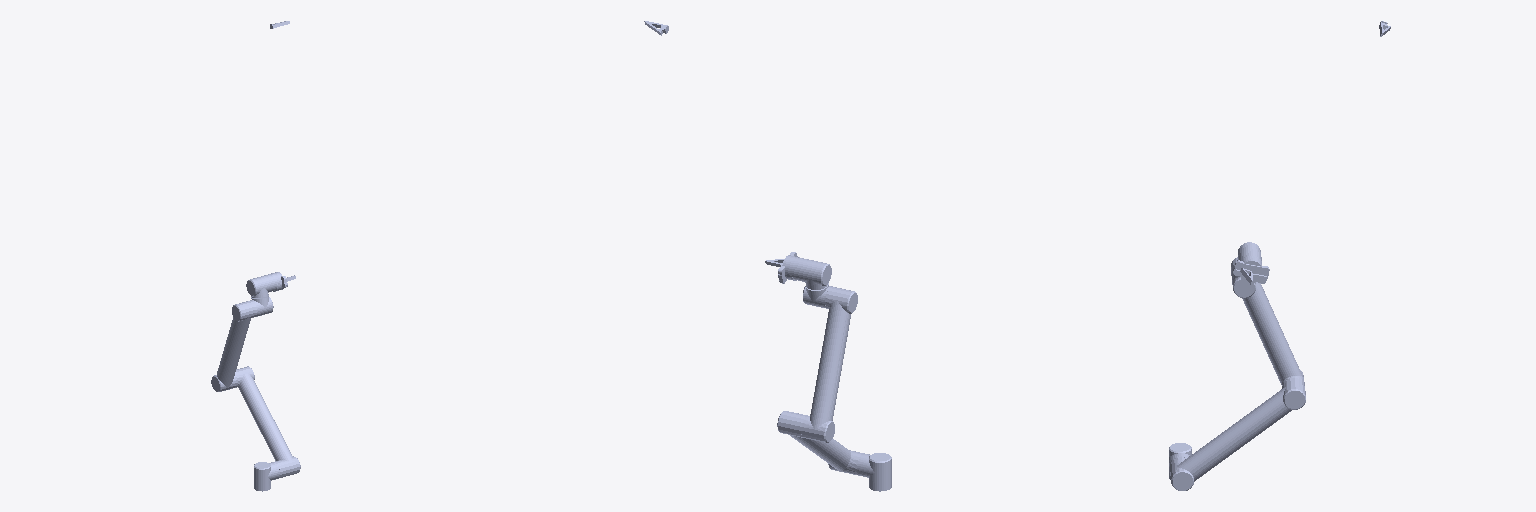
robot.urdf — mim_arm:
<?xml version="1.0" encoding="utf-8"?>
<!-- This URDF was automatically created by SolidWorks to URDF Exporter! Originally created by Stephen Brawner ([email redacted]) 
     Commit Version: 1.6.0-1-g15f4949  Build Version: 1.6.7594.29634
     For more information, please see http://wiki.ros.org/sw_urdf_exporter -->
<robot
  name="mim_arm">
  <link
    name="mim_arm_base_link">
    <inertial>
      <origin
        xyz="4.0324476207476E-19 0.0201017280573514 1.22282880618414E-18"
        rpy="0 0 0" />
      <mass
        value="0.689240659662406" />
      <inertia
        ixx="0.00102434108086272"
        ixy="-4.53910013248264E-22"
        ixz="6.32595764050144E-21"
        iyy="0.00186019972980973"
        iyz="9.14439629641527E-21"
        izz="0.00102434108086272" />
    </inertial>
    <visual>
      <origin
        xyz="0 0 0"
        rpy="0 0 0" />
      <geometry>
        <mesh
          filename="package://mim_arm/meshes/base_link.STL" />
      </geometry>
      <material
        name="">
        <color
          rgba="0.792156862745098 0.819607843137255 0.933333333333333 1" />
      </material>
    </visual>
    <collision>
      <origin
        xyz="0 0 0"
        rpy="0 0 0" />
      <geometry>
        <mesh
          filename="package://mim_arm/meshes/base_link.STL" />
      </geometry>
    </collision>
  </link>
  <link
    name="L1">
    <inertial>
      <origin
        xyz="0.0157111756213877 0.0745368977953079 3.22839210484933E-07"
        rpy="0 0 0" />
      <mass
        value="1.46692841296099" />
      <inertia
        ixx="0.00308011645508256"
        ixy="-0.000280319295179128"
        ixz="-2.73424139909787E-08"
        iyy="0.00284729651643544"
        iyz="-4.13248794120909E-08"
        izz="0.00401457189114322" />
    </inertial>
    <visual>
      <origin
        xyz="0 0 0"
        rpy="0 0 0" />
      <geometry>
        <mesh
          filename="package://mim_arm/meshes/L1.STL" />
      </geometry>
      <material
        name="">
        <color
          rgba="0.792156862745098 0.819607843137255 0.933333333333333 1" />
      </material>
    </visual>
    <collision>
      <origin
        xyz="0 0 0"
        rpy="0 0 0" />
      <geometry>
        <mesh
          filename="package://mim_arm/meshes/L1.STL" />
      </geometry>
    </collision>
  </link>
  <joint
    name="J01"
    type="revolute">
    <origin
      xyz="0 0 0.0413"
      rpy="1.5708 0 0.04868" />
    <parent
      link="mim_arm_base_link" />
    <child
      link="L1" />
    <axis
      xyz="0 1 0" />
    <limit
      lower="-2" upper="2"
      effort="1000"
      velocity="30" />
  </joint>
  <link
    name="L2">
    <inertial>
      <origin
        xyz="0.0839314258067013 0.296691749652629 2.79190101315496E-08"
        rpy="0 0 0" />
      <mass
        value="6.19019805184656" />
      <inertia
        ixx="0.29286382896202"
        ixy="-0.00418366073231934"
        ixz="-3.05995251841367E-07"
        iyy="0.00973882828969972"
        iyz="-1.61849364184279E-08"
        izz="0.294707227874404" />
    </inertial>
    <visual>
      <origin
        xyz="0 0 0"
        rpy="0 0 0" />
      <geometry>
        <mesh
          filename="package://mim_arm/meshes/L2.STL" />
      </geometry>
      <material
        name="">
        <color
          rgba="0.792156862745098 0.819607843137255 0.933333333333333 1" />
      </material>
    </visual>
    <collision>
      <origin
        xyz="0 0 0"
        rpy="0 0 0" />
      <geometry>
        <mesh
          filename="package://mim_arm/meshes/L2.STL" />
      </geometry>
    </collision>
  </link>
  <joint
    name="J12"
    type="revolute">
    <origin
      xyz="0.088339 0.0867 0"
      rpy="-0.90844 0 0" />
    <parent
      link="L1" />
    <child
      link="L2" />
    <axis
      xyz="1 0 0" />
    <limit
      lower="-2" upper="2"
      effort="1000"
      velocity="30" />
  </joint>
  <link
    name="L3">
    <inertial>
      <origin
        xyz="-0.0390411312560744 0.284045295063329 -6.99885338573125E-09"
        rpy="0 0 0" />
      <mass
        value="5.63295829772604" />
      <inertia
        ixx="0.228517974777978"
        ixy="0.000925537461414251"
        ixz="-1.66379515722896E-07"
        iyy="0.00797613784003759"
        iyz="-3.62618215112194E-08"
        izz="0.229295350964244" />
    </inertial>
    <visual>
      <origin
        xyz="0 0 0"
        rpy="0 0 0" />
      <geometry>
        <mesh
          filename="package://mim_arm/meshes/L3.STL" />
      </geometry>
      <material
        name="">
        <color
          rgba="0.792156862745098 0.819607843137255 0.933333333333333 1" />
      </material>
    </visual>
    <collision>
      <origin
        xyz="0 0 0"
        rpy="0 0 0" />
      <geometry>
        <mesh
          filename="package://mim_arm/meshes/L3.STL" />
      </geometry>
    </collision>
  </link>
  <joint
    name="J23"
    type="revolute">
    <origin
      xyz="0 0.6121 0"
      rpy="1.2956 0 0" />
    <parent
      link="L2" />
    <child
      link="L3" />
    <axis
      xyz="1 0 0" />
    <limit
      lower="-2" upper="2"
      effort="1000"
      velocity="30" />
  </joint>
  <link
    name="L4">
    <inertial>
      <origin
        xyz="0.0561524171672954 0.00575851444824127 2.22267610150428E-08"
        rpy="0 0 0" />
      <mass
        value="1.00354593818387" />
      <inertia
        ixx="0.00146767412037819"
        ixy="-9.69729917939629E-06"
        ixz="-7.70871234480699E-11"
        iyy="0.00165814310655602"
        iyz="-2.60399148641413E-10"
        izz="0.00179216037210157" />
    </inertial>
    <visual>
      <origin
        xyz="0 0 0"
        rpy="0 0 0" />
      <geometry>
        <mesh
          filename="package://mim_arm/meshes/L4.STL" />
      </geometry>
      <material
        name="">
        <color
          rgba="0.792156862745098 0.819607843137255 0.933333333333333 1" />
      </material>
    </visual>
    <collision>
      <origin
        xyz="0 0 0"
        rpy="0 0 0" />
      <geometry>
        <mesh
          filename="package://mim_arm/meshes/L4.STL" />
      </geometry>
    </collision>
  </link>
  <joint
    name="J34"
    type="revolute">
    <origin
      xyz="0.017974 0.5722 0"
      rpy="-0.59994 0 0" />
    <parent
      link="L3" />
    <child
      link="L4" />
    <axis
      xyz="1 0 0" />
    <limit
      lower="-2" upper="2"
      effort="1000"
      velocity="30" />
  </joint>
  <link
    name="L5">
    <inertial>
      <origin
        xyz="0.0427941745372498 0.0490036715631024 -2.33980786690235E-08"
        rpy="0 0 0" />
      <mass
        value="1.70333973838367" />
      <inertia
        ixx="0.00250547799197183"
        ixy="-9.58300421347055E-05"
        ixz="-1.75039188279538E-09"
        iyy="0.00348668671540668"
        iyz="-2.78336173577817E-05"
        izz="0.00347783620626748" />
    </inertial>
    <visual>
      <origin
        xyz="0 0 0"
        rpy="0 0 0" />
      <geometry>
        <mesh
          filename="package://mim_arm/meshes/L5.STL" />
      </geometry>
      <material
        name="">
        <color
          rgba="0.792156862745098 0.819607843137255 0.933333333333333 1" />
      </material>
    </visual>
    <collision>
      <origin
        xyz="0 0 0"
        rpy="0 0 0" />
      <geometry>
        <mesh
          filename="package://mim_arm/meshes/L5.STL" />
      </geometry>
    </collision>
  </link>
  <joint
    name="J45"
    type="revolute">
    <origin
      xyz="0.057831 0.063304 0"
      rpy="0 -0.00010935 0" />
    <parent
      link="L4" />
    <child
      link="L5" />
    <axis
      xyz="0 1 0" />
    <limit
      lower="-2" upper="2"
      effort="1000"
      velocity="30" />
  </joint>
  <link
    name="GR">
    <inertial>
      <origin
        xyz="0.0273459250494344 2.13762341161328E-12 -3.96627175547337E-13"
        rpy="0 0 0" />
      <mass
        value="0.437864913697669" />
      <inertia
        ixx="0.000703498286069566"
        ixy="-1.44675573672298E-14"
        ixz="7.42004588739735E-15"
        iyy="0.000536785327777073"
        iyz="5.89080786103993E-14"
        izz="0.000377025648223833" />
    </inertial>
    <visual>
      <origin
        xyz="0 0 0"
        rpy="0 0 0" />
      <geometry>
        <mesh
          filename="package://mim_arm/meshes/GR.STL" />
      </geometry>
      <material
        name="">
        <color
          rgba="0.792156862745098 0.819607843137255 0.933333333333333 1" />
      </material>
    </visual>
    <collision>
      <origin
        xyz="0 0 0"
        rpy="0 0 0" />
      <geometry>
        <mesh
          filename="package://mim_arm/meshes/GR.STL" />
      </geometry>
    </collision>
  </link>
  <joint
    name="J5G"
    type="fixed">
    <origin
      xyz="0.0912 0.052396 0"
      rpy="-0.17795 0 0" />
    <parent
      link="L5" />
    <child
      link="GR" />
    <axis
      xyz="0 0 0" />
  </joint>
  <link
    name="G1">
    <inertial>
      <origin
        xyz="0.0284421452977442 0.0100000000000002 0.0186690552507071"
        rpy="0 0 0" />
      <mass
        value="0.0483522534480086" />
      <inertia
        ixx="8.82032469824889E-06"
        ixy="-7.26330752270563E-20"
        ixz="6.48121610168242E-06"
        iyy="5.66268780083E-05"
        iyz="-1.6940658945086E-20"
        izz="5.14050368732517E-05" />
    </inertial>
    <visual>
      <origin
        xyz="0 0 0"
        rpy="0 0 0" />
      <geometry>
        <mesh
          filename="package://mim_arm/meshes/G1.STL" />
      </geometry>
      <material
        name="">
        <color
          rgba="0.792156862745098 0.819607843137255 0.933333333333333 1" />
      </material>
    </visual>
    <collision>
      <origin
        xyz="0 0 0"
        rpy="0 0 0" />
      <geometry>
        <mesh
          filename="package://mim_arm/meshes/G1.STL" />
      </geometry>
    </collision>
  </link>
  <joint
    name="GJ1"
    type="prismatic">
    <origin
      xyz="0.055 -0.01 0"
      rpy="0 0 0" />
    <parent
      link="GR" />
    <child
      link="G1" />
    <axis
      xyz="0 0 1" />
    <limit
      lower="0"
      upper="0.04"
      effort="100"
      velocity="30" />
  </joint>

  <link
    name="G2">
    <inertial>
      <origin
        xyz="0.0284421452977444 -0.00999999999999934 0.0316457779523832" 
        rpy="0 0 0" />
      <mass
        value="0.0483522534480086" />
      <inertia
        ixx="8.82032469824892E-06"
        ixy="1.29490161811501E-19"
        ixz="6.48121610168246E-06"
        iyy="5.66268780083E-05"
        iyz="-3.3881317890172E-20"
        izz="5.14050368732517E-05" />
    </inertial>
    <visual>
      <origin
        xyz="0 0 0"
        rpy="0 0 0" />
      <geometry>
        <mesh
          filename="package://mim_arm/meshes/G2.STL" />
      </geometry>
      <material
        name="">
        <color
          rgba="0.792156862745098 0.819607843137255 0.933333333333333 1" />
      </material>
    </visual>
    <collision>
      <origin
        xyz="0 0 0"
        rpy="0 0 0" />
      <geometry>
        <mesh
          filename="package://mim_arm/meshes/G2.STL" />
      </geometry>
    </collision>
  </link>
  <joint
    name="GJ2"
    type="prismatic">
    <origin
      xyz="0.055 -0.01 0"
      rpy="-3.1416 0 0" />
    <parent
      link="GR" />
    <child
      link="G2" />
    <axis
      xyz="0 0 1" />
    <limit
      lower="0"
      upper="0.04"
      effort="100"
      velocity="30" />
  </joint>
</robot>

--- What the picture shows (computed from the rendered views, not written in the file) ---
The picture shows the robot from 3 angles, left to right: view 1: azimuth 30°, elevation 25°; view 2: azimuth 150°, elevation 25°; view 3: azimuth 270°, elevation 25°; orthographic projection.
Robot: mim_arm — 9 links, 8 joints (5 revolute, 2 prismatic, 1 fixed); root link mim_arm_base_link; default pose: all joints at 0.
Links seen in each view (by area): view 1: L2, L3, L5, L1; view 2: L3, L2, L5, L1; view 3: L2, L3, L5.
Link boxes in pixels (x1=…): L2: x1=235, y1=366, x2=300, y2=478; L3: x1=211, y1=300, x2=256, y2=391; L5: x1=246, y1=272, x2=287, y2=297; L1: x1=254, y1=462, x2=279, y2=491; L3: x1=801, y1=287, x2=857, y2=442; L2: x1=777, y1=411, x2=863, y2=475; L5: x1=778, y1=253, x2=831, y2=289; L1: x1=857, y1=453, x2=891, y2=491; L2: x1=1170, y1=378, x2=1305, y2=490; L3: x1=1231, y1=257, x2=1304, y2=385; L5: x1=1233, y1=242, x2=1269, y2=281.
Size in the robot's own frame: 0.7294 by 0.9585 by 2.43 metres.
Meshes: 9 distinct files referenced, 8 mesh visuals loaded (8 binary STL); not drawn: 1 (reference not matched to a file when rendering).
